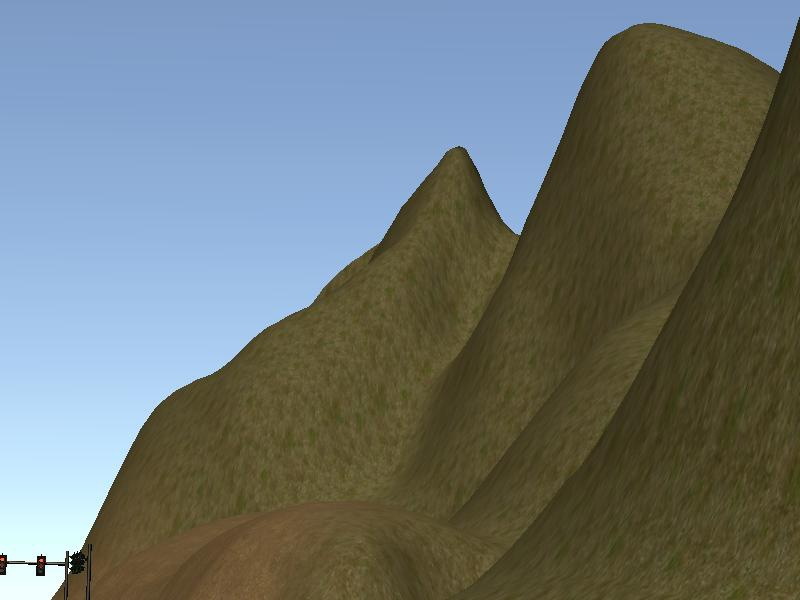Red: (35, 554, 45, 578), (1, 555, 7, 577)
